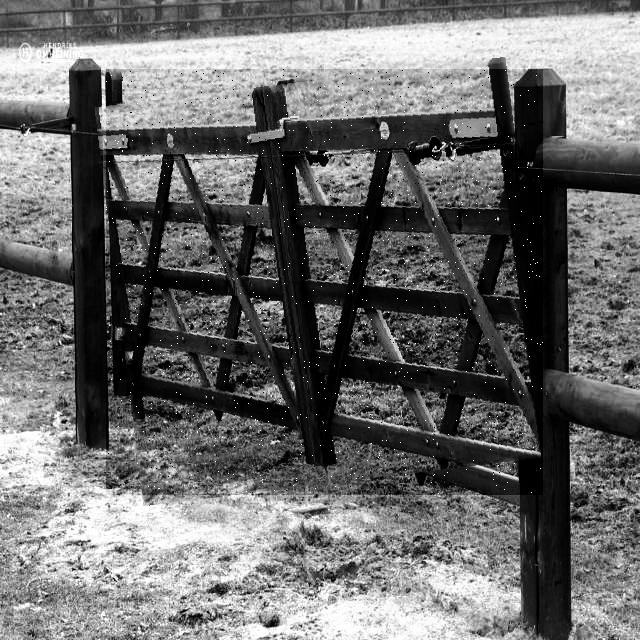fences: (106, 69, 543, 495)
